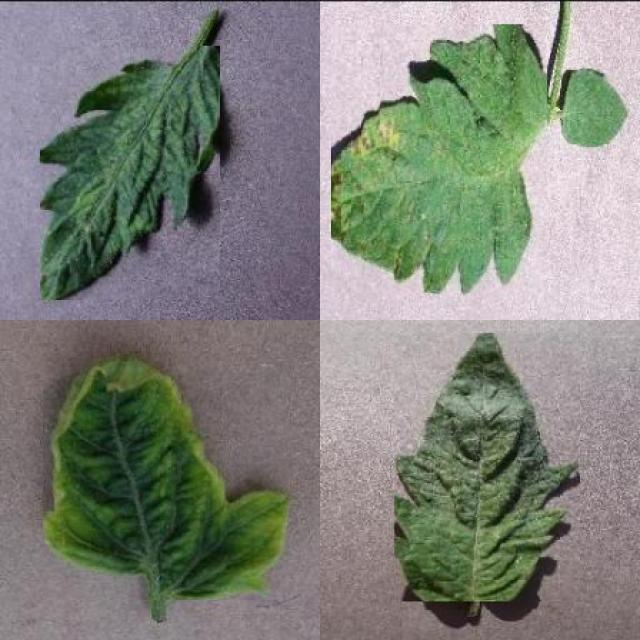Healthy: (562, 68, 628, 145)
Mosaic Virus: (40, 46, 220, 300)
Septoria: (330, 25, 547, 294)
Spider Mites: (394, 334, 580, 602)
Yellow Leaf Curl Virus: (44, 357, 289, 600)
